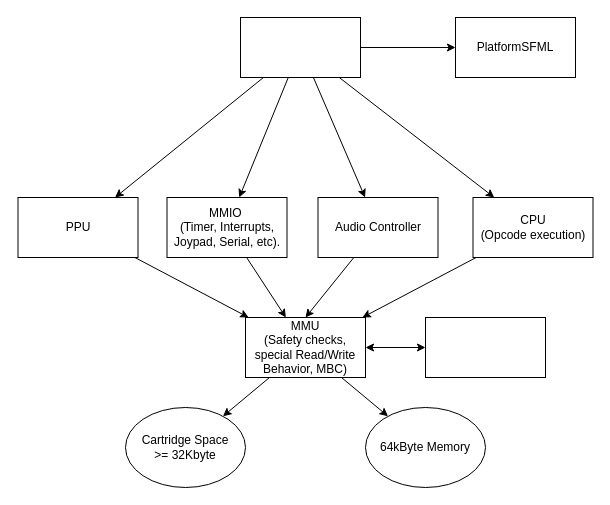
Image size: 610x505. Some labels were removed from this diagram. The centre of each missing label's shape, as x and y in pixels:
"main" belongs at point (300, 47).
"MemMAP (MMU and MMIO Defintitions)" belongs at point (485, 347).
